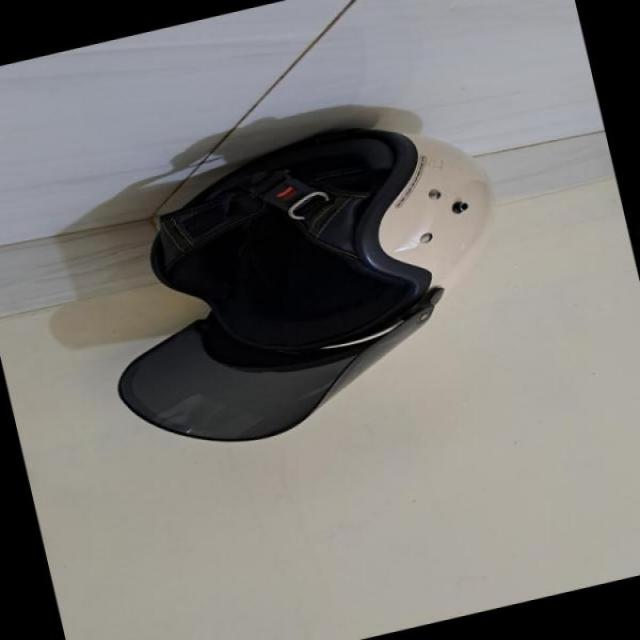Helmet: (123, 126, 496, 420)
